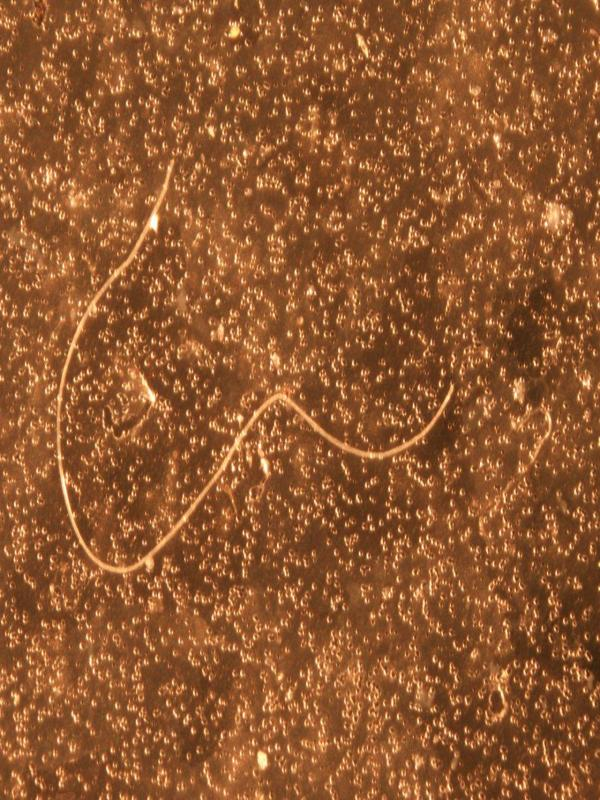microplastic: (1, 1, 598, 797), (55, 152, 456, 578)
